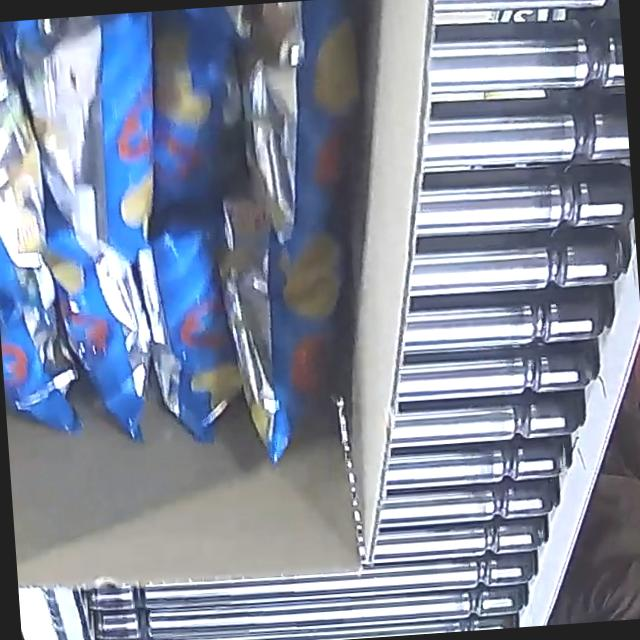paprika: (0, 0, 410, 489)
